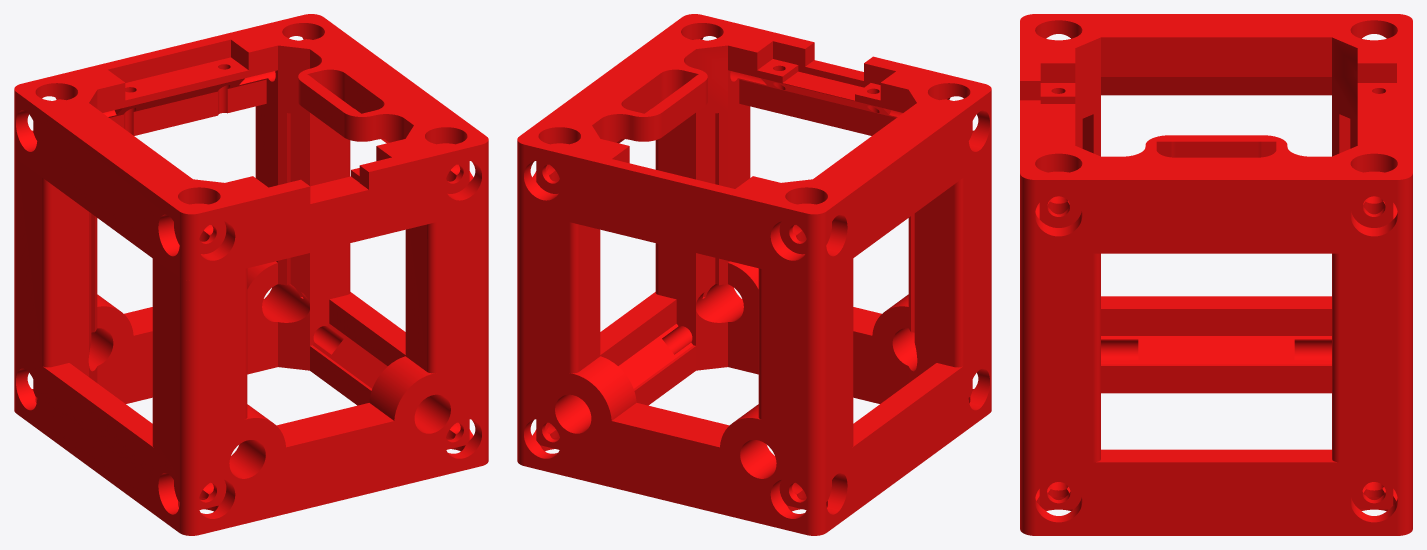
File: Base Cube 1x1 V1 (Nano Mount).fbx
3 views of the same model, side by side, from view 1: azimuth 30°, elevation 25°; view 2: azimuth 150°, elevation 25°; view 3: azimuth 270°, elevation 25° (orthographic). The views are drawn at different scales.
Visible parts, largest first — view 1: Base Cube 1x1 V1 (Nano Mount); view 2: Base Cube 1x1 V1 (Nano Mount); view 3: Base Cube 1x1 V1 (Nano Mount).
Part boxes in pixels (bbox=[...]): Base Cube 1x1 V1 (Nano Mount): bbox=[14, 14, 488, 535]; Base Cube 1x1 V1 (Nano Mount): bbox=[517, 14, 991, 535]; Base Cube 1x1 V1 (Nano Mount): bbox=[1020, 14, 1412, 535].
Bounding box in the file's own units: 4.98 × 4.98 × 4.98.
